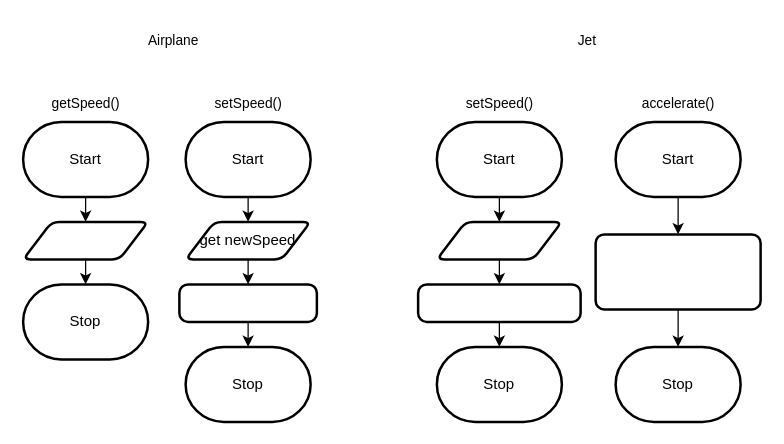
This 784x444 diagram has some shape labels left out. The shapes that lost their labels are listed below. From the top down, each one's centre as x and y in pixels, then its label:
pixel 85 240: return speed
pixel 498 240: get speed
pixel 677 271: super.setSpeed(getSpeed() * MULTIPLIER)
pixel 248 302: this.speed = newSpeed
pixel 498 302: super.setSpeed(speed * MULTIPLIER)
